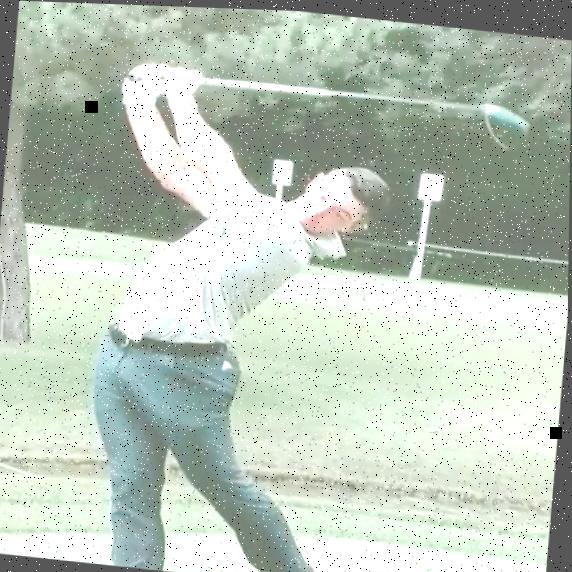ClubHead: (481, 98, 531, 150)
